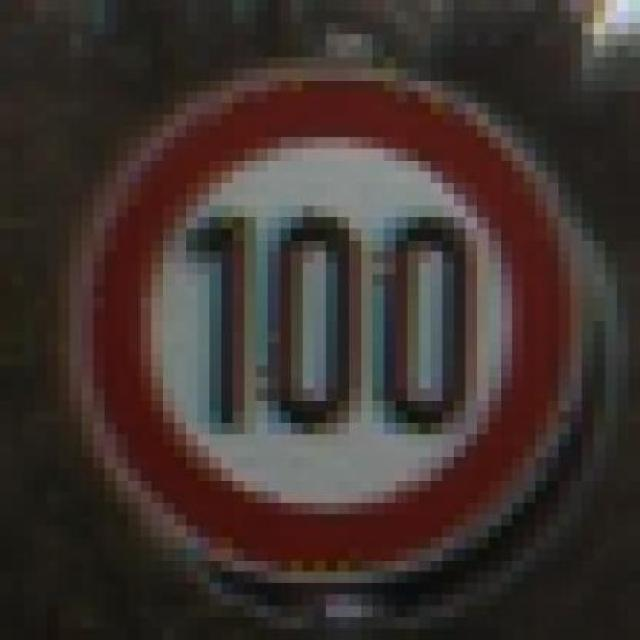forb_speed_over_100: (86, 76, 571, 573)
